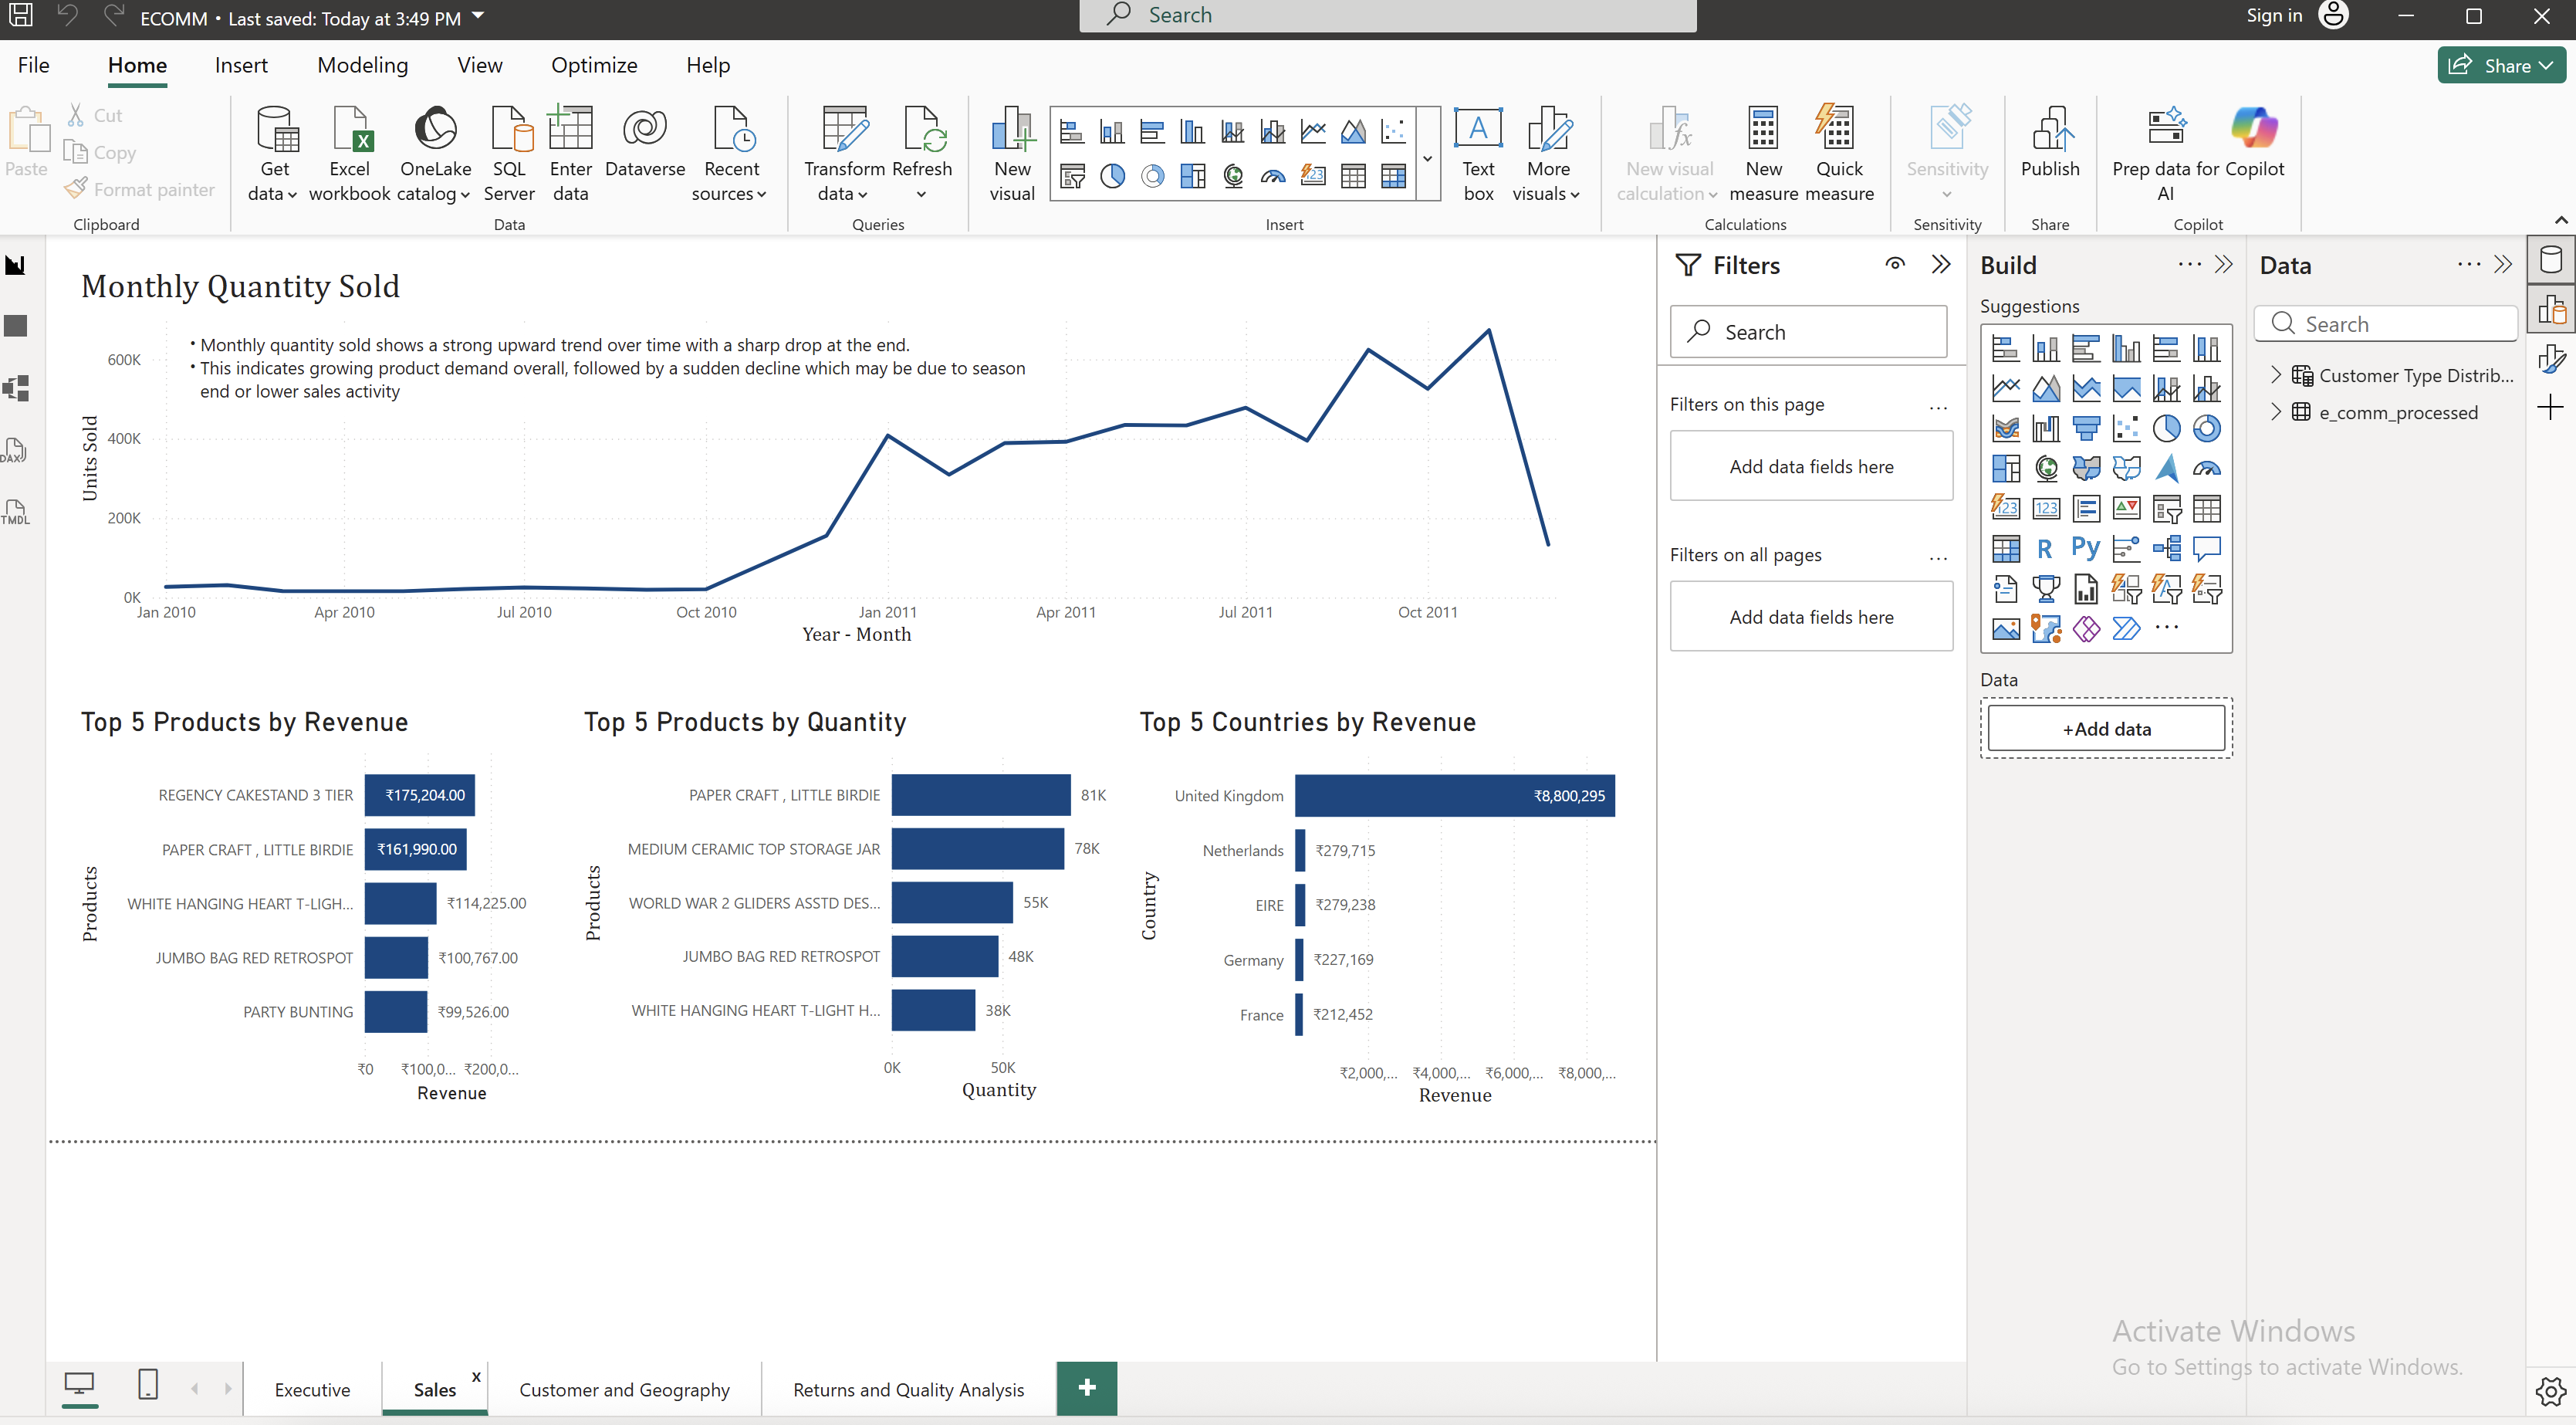

This screenshot's page, from the dashboard's own definition file:
{"tool":"powerbi","page":{"name":"Sales","canvas":[1280,720],"ordinal":1},"visuals":[{"type":"clusteredBarChart","title":"Top 5 Products by Revenue","fields":{"Category":["e_comm_processed.descr","e_comm_processed.stock_cd"],"Y":["e_comm_processed.Revenue by Product"]},"box":[22.6,374.5,399.2,321],"z":0},{"type":"clusteredBarChart","title":"Top 5 Products by Quantity","fields":{"Category":["e_comm_processed.descr","e_comm_processed.stock_cd"],"Y":["e_comm_processed.Quant by Product"]},"box":[421.9,374.5,436.3,319],"z":1000},{"type":"clusteredBarChart","title":"Top 5 Countries by Revenue","fields":{"Category":["e_comm_processed.country"],"Y":["e_comm_processed.Gross Revenue"]},"box":[864.3,374.5,417.7,323.1],"z":2000},{"type":"lineChart","title":"Monthly Quantity Sold","fields":{"Category":["e_comm_processed.invoice_dt.Variation.Date Hierarchy.Year","e_comm_processed.invoice_dt.Variation.Date Hierarchy.Month"],"Y":["e_comm_processed.Quant by Product"]},"box":[22.3,26.7,1201.3,304.4],"z":3000},{"type":"textbox","box":[99.5,72.8,709.8,74.2],"z":4000}]}

Visuals, with their boxes on the page's 1280x720 design canvas (x1, y1, x2, y2). These are canvas units, not pixel positions in the 2576x1425 screenshot, which may show the page scaled, cropped or inside an application window:
"Top 5 Products by Revenue" clusteredBarChart: [x1=23, y1=374, x2=422, y2=696]
"Top 5 Products by Quantity" clusteredBarChart: [x1=422, y1=374, x2=858, y2=694]
"Top 5 Countries by Revenue" clusteredBarChart: [x1=864, y1=374, x2=1282, y2=698]
"Monthly Quantity Sold" lineChart: [x1=22, y1=27, x2=1224, y2=331]
textbox: [x1=100, y1=73, x2=809, y2=147]
